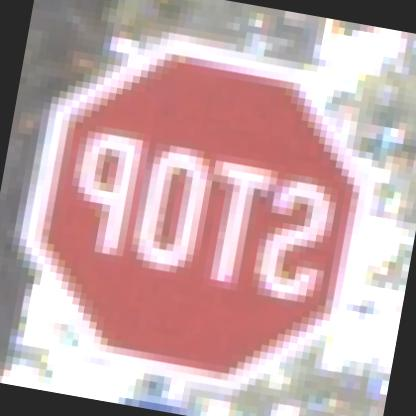stop: (0, 13, 397, 408)
